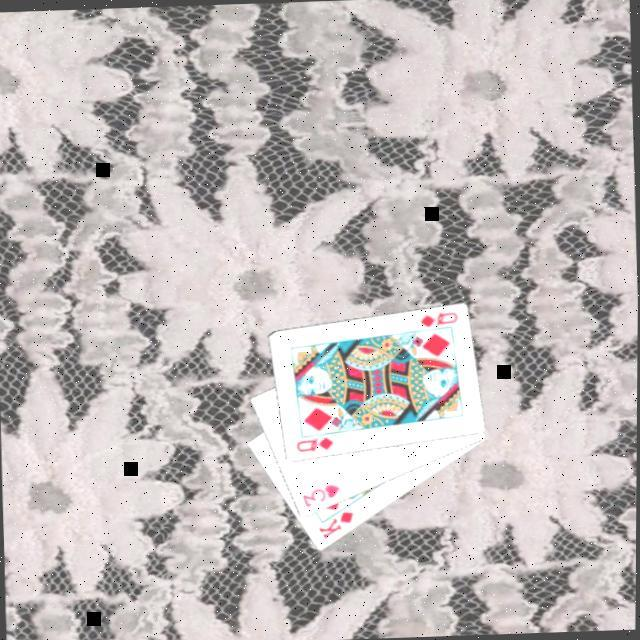3H: (300, 479, 345, 509)
KD: (317, 506, 359, 540)
QD: (418, 306, 462, 328), (295, 432, 338, 452)
